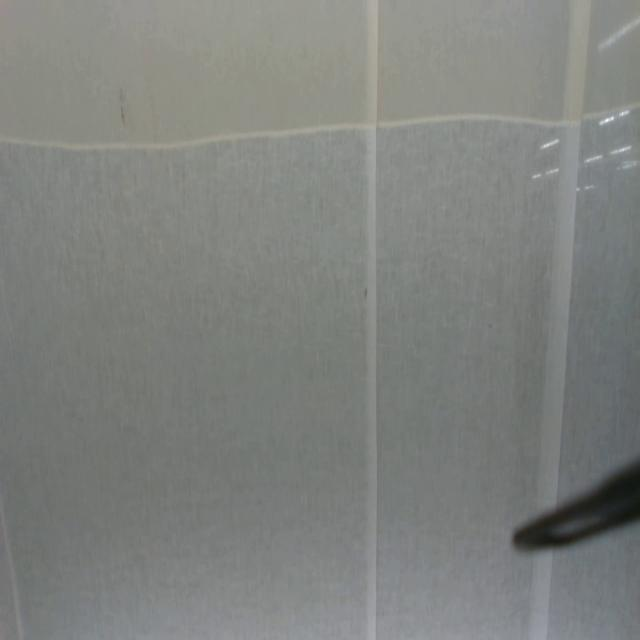crease: (537, 0, 591, 500), (366, 0, 381, 638), (0, 499, 27, 640), (529, 553, 556, 640)
hole: (362, 285, 370, 303)
